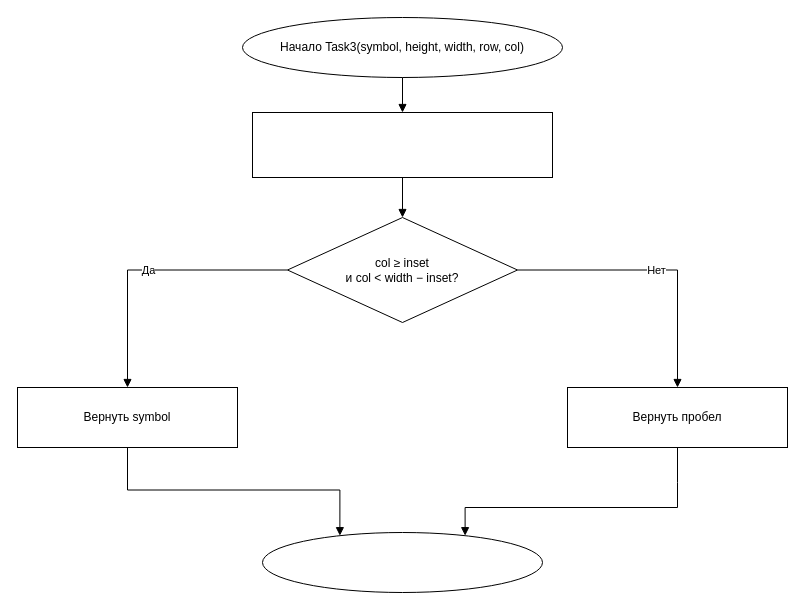
Some shapes in this 805 by 610 pixel diagram are drawn without their labels. The shapes that lost their labels are listed below. From the top down, each one's centre as x and y in pixels, then its label:
At pixel 402 145: "inset = row × width / (4 × height)".
At pixel 402 562: "Возврат символа в main()".
